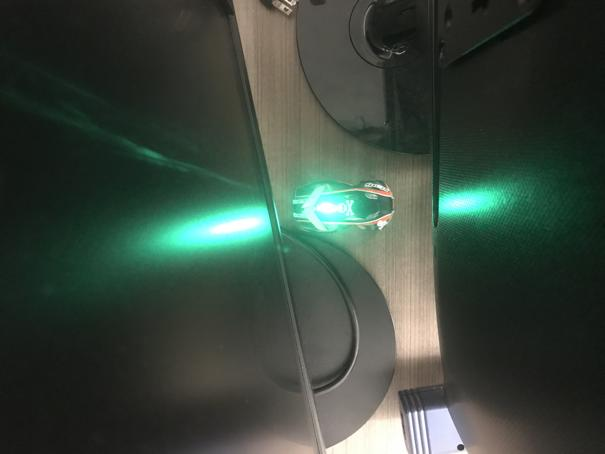Skull: (289, 179, 395, 232)
